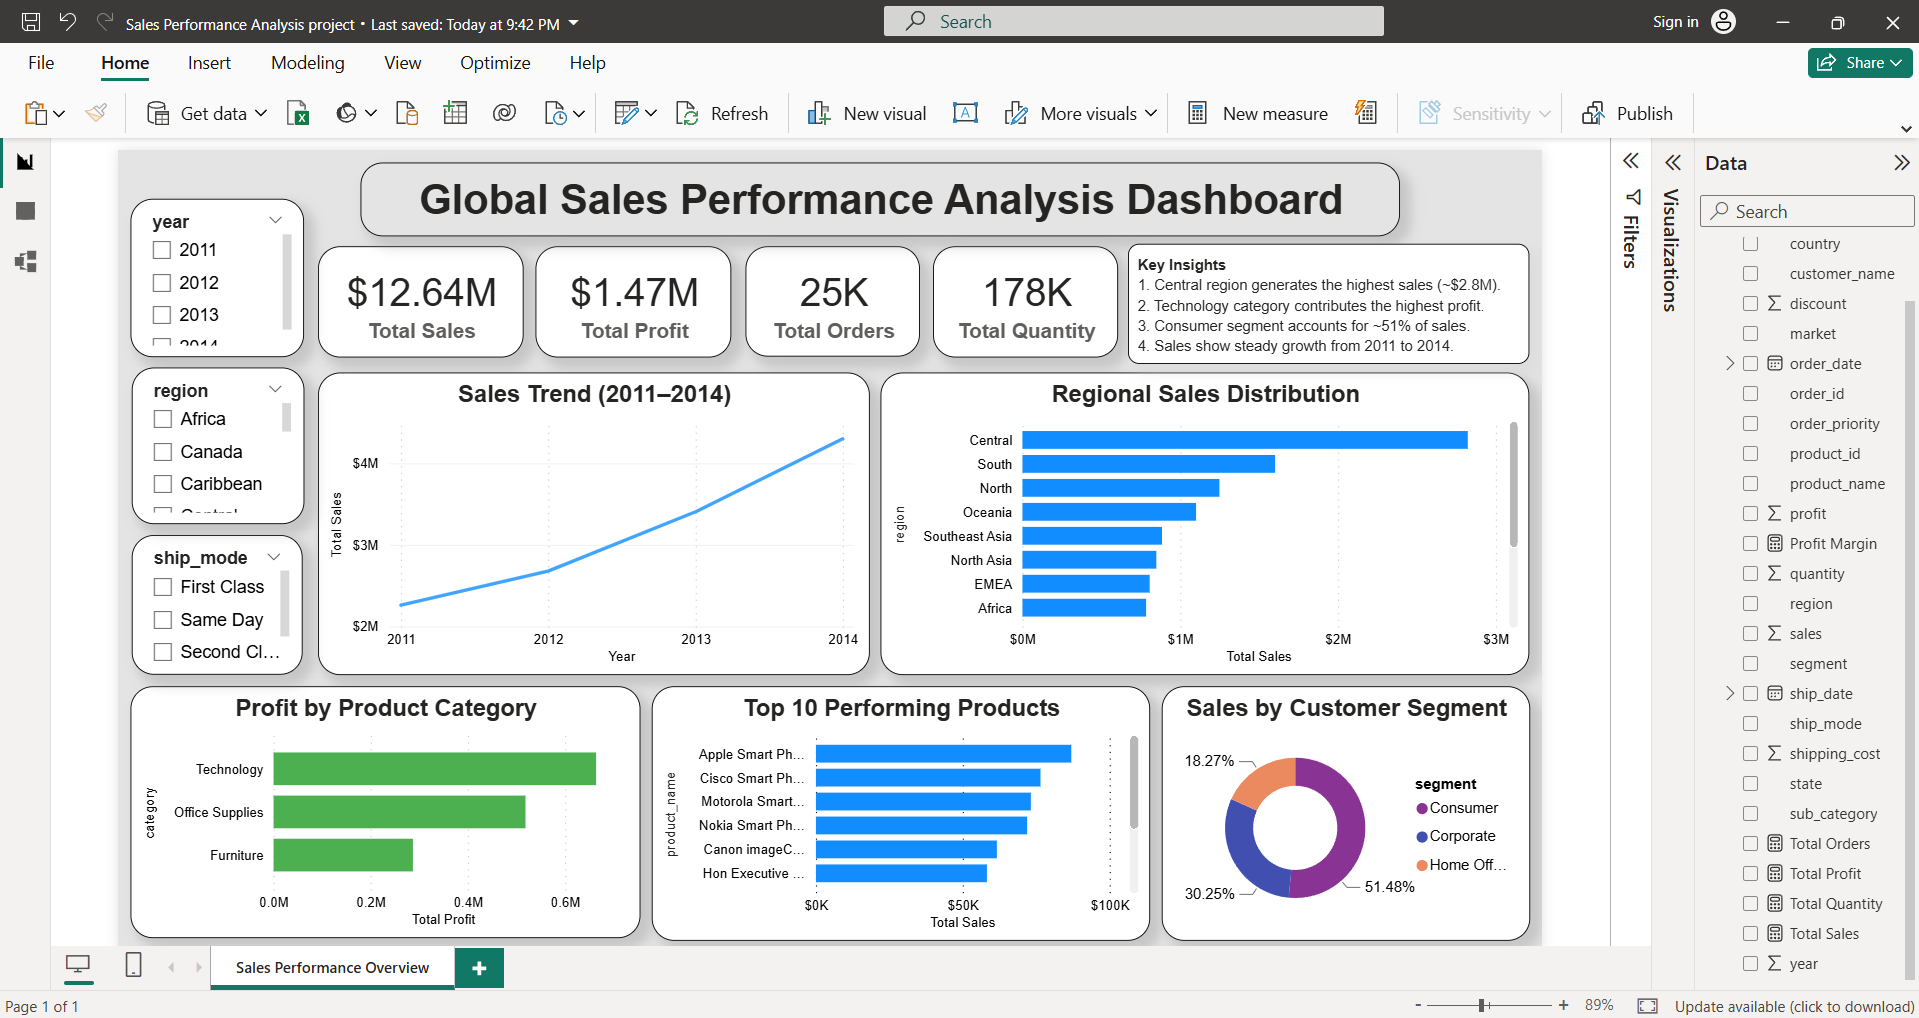

The page's visual inventory and layout, read from the dashboard file:
{"tool":"powerbi","page":{"name":"Sales Performance Overview","canvas":[1280,720],"ordinal":0},"visuals":[{"type":"card","fields":{"Values":["sales_data csv.Total Sales"]},"box":[179.8,86.9,184.5,100],"z":0},{"type":"card","fields":{"Values":["sales_data csv.Total Profit"]},"box":[375.8,86.9,176.2,100],"z":1000},{"type":"card","fields":{"Values":["sales_data csv.Total Orders"]},"box":[563.5,86.9,157.1,98.8],"z":2000},{"type":"card","fields":{"Values":["sales_data csv.Total Quantity"]},"box":[732.1,86.9,166.7,100],"z":3000},{"type":"textbox","box":[217.9,10.7,934.5,66.7],"z":4000},{"type":"lineChart","title":"Sales Trend (2011–2014)","fields":{"Category":["sales_data csv.order_date.Variation.Date Hierarchy.Year","sales_data csv.order_date.Variation.Date Hierarchy.Quarter","sales_data csv.order_date.Variation.Date Hierarchy.Month","sales_data csv.order_date.Variation.Date Hierarchy.Day"],"Y":["sales_data csv.Total Sales"]},"box":[180.3,200,495.8,271.8],"z":5000},{"type":"clusteredBarChart","title":"Regional Sales Distribution","fields":{"Category":["sales_data csv.region"],"Y":["sales_data csv.Total Sales"]},"box":[685.9,200,583.1,271.8],"z":6000},{"type":"barChart","title":"Profit by Product Category","fields":{"Category":["sales_data csv.category"],"Y":["Sum(sales_data csv.profit)"]},"box":[10.7,482.1,458.3,226.2],"z":7000},{"type":"clusteredBarChart","title":"Top 10 Performing Products","fields":{"Y":["sales_data csv.Total Sales"],"Category":["sales_data csv.product_name"]},"box":[479.8,482.1,447.6,228.6],"z":8000},{"type":"donutChart","title":"Sales by Customer Segment","fields":{"Category":["sales_data csv.segment"],"Y":["sales_data csv.Total Sales"]},"box":[938.1,482.1,331,228.6],"z":9000},{"type":"slicer","fields":{"Values":["sales_data csv.ship_mode"]},"box":[12.7,346.5,153.5,125.4],"z":10000},{"type":"slicer","fields":{"Values":["sales_data csv.year"]},"box":[11.3,43.7,156.3,142.3],"z":11000},{"type":"slicer","fields":{"Values":["sales_data csv.region"]},"box":[12.7,195.8,154.9,140.8],"z":12000},{"type":"textbox","box":[908.3,84.5,360.7,108.3],"z":13000}]}

Visuals, with their boxes on the page's 1280x720 design canvas (x1, y1, x2, y2). These are canvas units, not pixel positions in the 1919x1018 screenshot, which may show the page scaled, cropped or inside an application window:
card - sales_data csv.Total Sales: [left=180, top=87, right=364, bottom=187]
card - sales_data csv.Total Profit: [left=376, top=87, right=552, bottom=187]
card - sales_data csv.Total Orders: [left=564, top=87, right=721, bottom=186]
card - sales_data csv.Total Quantity: [left=732, top=87, right=899, bottom=187]
textbox: [left=218, top=11, right=1152, bottom=77]
"Sales Trend (2011–2014)" lineChart: [left=180, top=200, right=676, bottom=472]
"Regional Sales Distribution" clusteredBarChart: [left=686, top=200, right=1269, bottom=472]
"Profit by Product Category" barChart: [left=11, top=482, right=469, bottom=708]
"Top 10 Performing Products" clusteredBarChart: [left=480, top=482, right=927, bottom=711]
"Sales by Customer Segment" donutChart: [left=938, top=482, right=1269, bottom=711]
slicer - sales_data csv.ship_mode: [left=13, top=346, right=166, bottom=472]
slicer - sales_data csv.year: [left=11, top=44, right=168, bottom=186]
slicer - sales_data csv.region: [left=13, top=196, right=168, bottom=337]
textbox: [left=908, top=84, right=1269, bottom=193]
